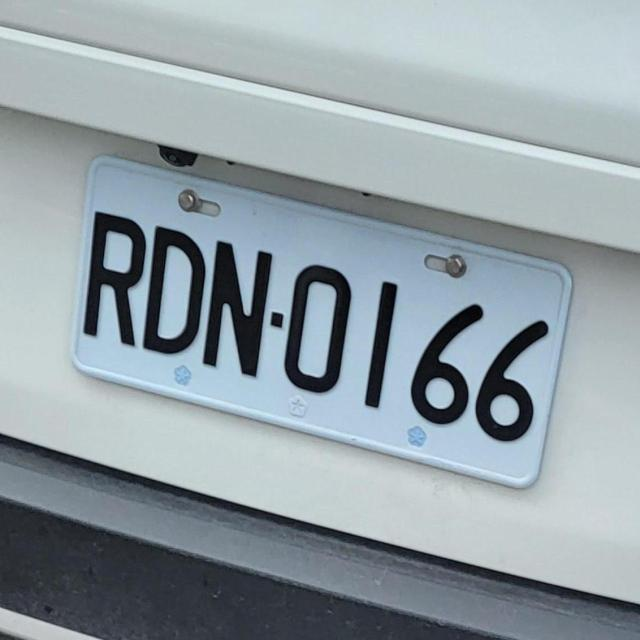W: (54, 139, 542, 512)
